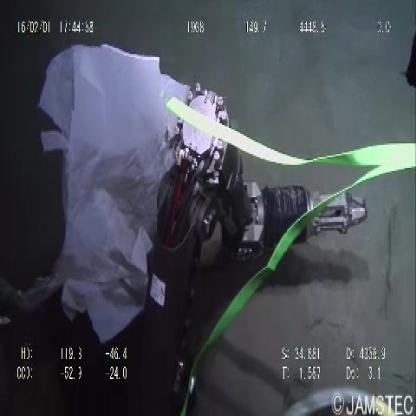Rov: (141, 80, 370, 362)
Rác: (35, 38, 192, 352)
